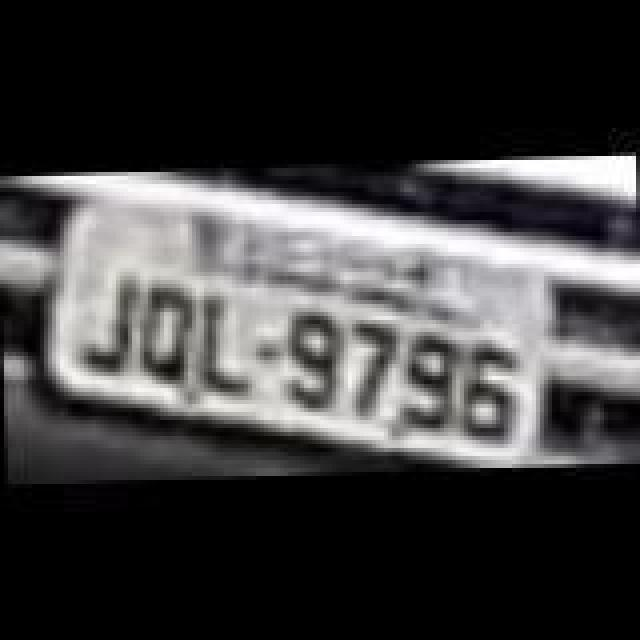6: (454, 338, 522, 446)
7: (340, 312, 404, 424)
9: (276, 306, 348, 414), (400, 320, 464, 432)
J: (72, 270, 136, 378)
L: (192, 286, 256, 402)
O: (130, 282, 198, 390)
